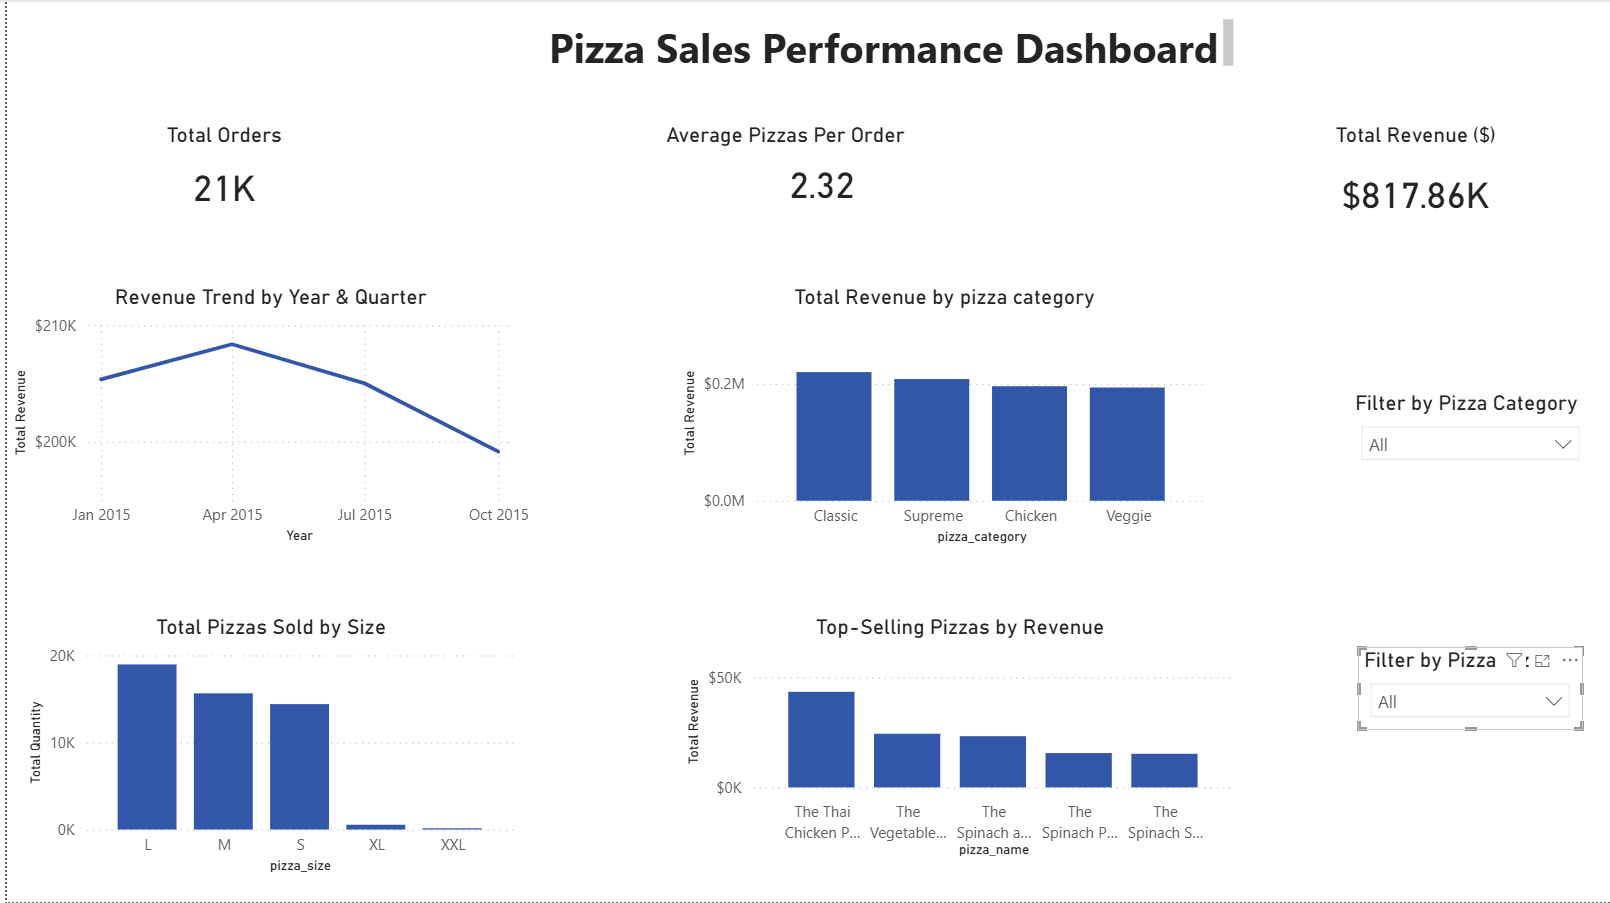

What the dashboard file says about the page in this screenshot:
{"tool":"powerbi","page":{"name":"Page 1","canvas":[1280,720],"ordinal":0},"visuals":[{"type":"card","title":"Total Revenue ($)","fields":{"Values":["pizza_sales.Total Revenue"]},"box":[984.3,97.3,280.1,94.3],"z":0},{"type":"card","title":"Total Orders","fields":{"Values":["pizza_sales.Total Orders"]},"box":[23.3,97.3,300.5,82.7],"z":1000},{"type":"clusteredColumnChart","title":"Total Pizzas Sold by Size","fields":{"Y":["pizza_sales.Total Quantity"],"Category":["pizza_sales.pizza_size"]},"box":[11.7,490.2,397.8,211.1],"z":2000},{"type":"lineChart","title":"Revenue Trend by Year & Quarter","fields":{"Category":["pizza_sales.order_date.Variation.Date Hierarchy.Year","pizza_sales.order_date.Variation.Date Hierarchy.Quarter","pizza_sales.order_date.Variation.Date Hierarchy.Month","pizza_sales.order_date.Variation.Date Hierarchy.Day"],"Y":["pizza_sales.Total Revenue"]},"box":[0,226.6,421.2,211.1],"z":4000},{"type":"columnChart","title":"Total Revenue by pizza category","fields":{"Category":["pizza_sales.pizza_category"],"Y":["pizza_sales.Total Revenue"]},"box":[534,226.6,428.9,212],"z":5000},{"type":"slicer","title":"Filter by Pizza Category","fields":{"Values":["pizza_sales.pizza_category"]},"box":[1070.9,311.2,193.6,65.2],"z":6000},{"type":"slicer","title":"Filter by Pizza Size","fields":{"Values":["pizza_sales.pizza_size"]},"box":[1078.7,516.5,179,66.1],"z":7000},{"type":"clusteredColumnChart","title":"Top-Selling Pizzas by Revenue","fields":{"Category":["pizza_sales.pizza_name"],"Y":["pizza_sales.Total Revenue"]},"box":[536.9,490.2,447.4,198.4],"z":8000},{"type":"textbox","box":[428,10.7,556.4,49.6],"z":9001},{"type":"card","title":"Average Pizzas Per Order","fields":{"Values":["pizza_sales.Avg Pizzas per Order"]},"box":[521.3,97.3,258.7,78.8],"z":9002}]}

Visuals, with their boxes in screenshot pixels (x1, y1, x2, y2), scaled from the page's 1280x720 canvas onto the 1610x903 screenshot:
"Total Revenue ($)" card: detection(1238, 122, 1590, 240)
"Total Orders" card: detection(29, 122, 407, 226)
"Total Pizzas Sold by Size" clusteredColumnChart: detection(15, 615, 515, 880)
"Revenue Trend by Year & Quarter" lineChart: detection(0, 284, 530, 549)
"Total Revenue by pizza category" columnChart: detection(672, 284, 1211, 550)
"Filter by Pizza Category" slicer: detection(1347, 390, 1591, 472)
"Filter by Pizza Size" slicer: detection(1357, 648, 1582, 731)
"Top-Selling Pizzas by Revenue" clusteredColumnChart: detection(675, 615, 1238, 864)
textbox: detection(538, 13, 1238, 76)
"Average Pizzas Per Order" card: detection(656, 122, 981, 221)
